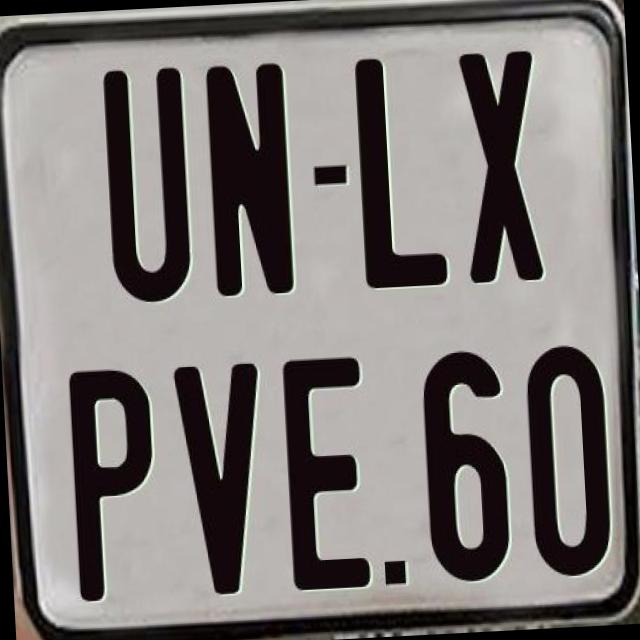0: (520, 340, 610, 582)
6: (418, 346, 516, 585)
E: (282, 351, 377, 589)
L: (354, 52, 450, 288)
N: (202, 58, 298, 296)
P: (66, 364, 162, 599)
U: (100, 63, 194, 299)
V: (172, 358, 272, 594)
X: (456, 49, 546, 288)
